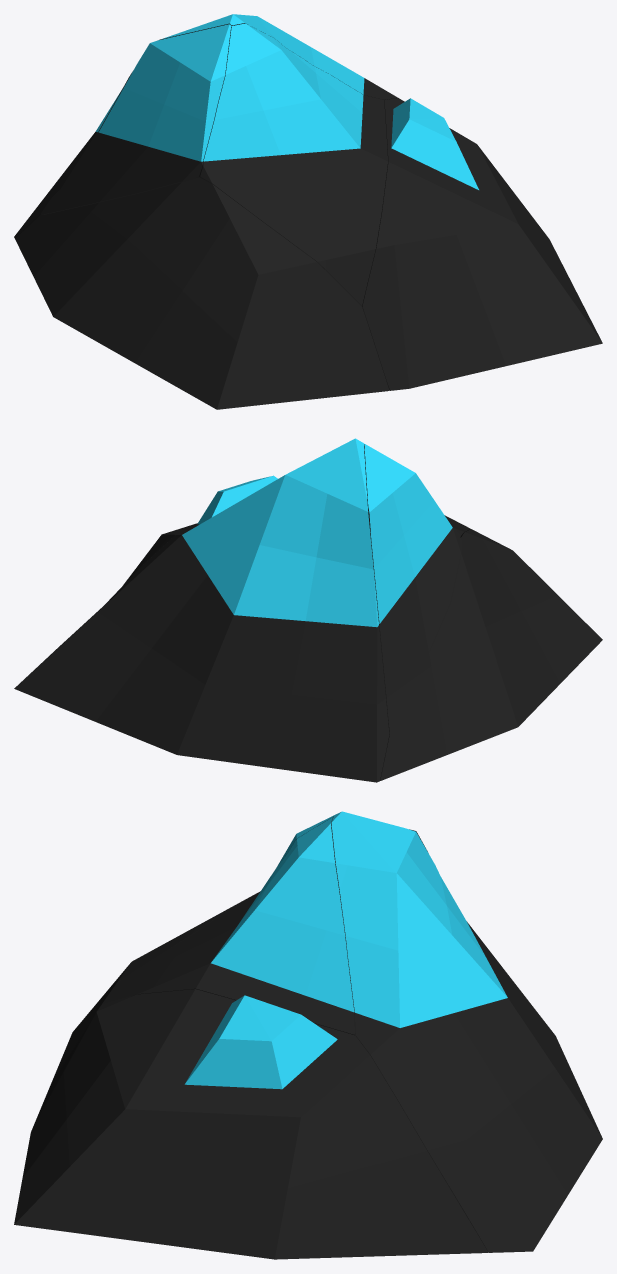
File: ClystalBreak.fbx
3 views of the same model, one above another, from view 1: azimuth 30°, elevation 25°; view 2: azimuth 150°, elevation 25°; view 3: azimuth 270°, elevation 25° (orthographic). The views are drawn at different scales.
Parts seen in each view (by area): view 1: ClystalBreak_cell.002, ClystalBreak_cell.001, ClystalBreak_cell.003, ClystalBreak_cell.004, ClystalBreak_cell.005, ClystalBreak_cell; view 2: ClystalBreak_cell, ClystalBreak_cell.002, ClystalBreak_cell.004, ClystalBreak_cell.005, ClystalBreak_cell.001; view 3: ClystalBreak_cell.001, ClystalBreak_cell, ClystalBreak_cell.003, ClystalBreak_cell.005, ClystalBreak_cell.002.
Part boxes in pixels (x1,y1,x2,y2): ClystalBreak_cell.002: (15,177,389,409); ClystalBreak_cell.001: (362,98,602,390); ClystalBreak_cell.003: (196,23,387,305); ClystalBreak_cell.004: (40,24,231,214); ClystalBreak_cell.005: (391,98,478,189); ClystalBreak_cell: (14,14,397,238); ClystalBreak_cell: (14,438,389,782); ClystalBreak_cell.002: (380,529,602,780); ClystalBreak_cell.004: (364,443,461,733); ClystalBreak_cell.005: (197,475,277,524); ClystalBreak_cell.001: (123,523,199,585); ClystalBreak_cell.001: (14,989,488,1259); ClystalBreak_cell: (331,811,602,1252); ClystalBreak_cell.003: (101,817,355,1035); ClystalBreak_cell.005: (184,995,337,1089); ClystalBreak_cell.002: (35,904,236,1120).
Size of the model in its own units: 2.35 by 1.35 by 2.38.
